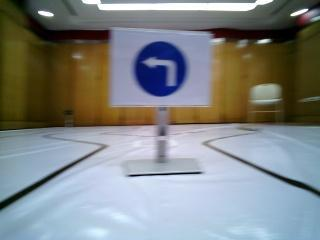left: (116, 32, 200, 100)
